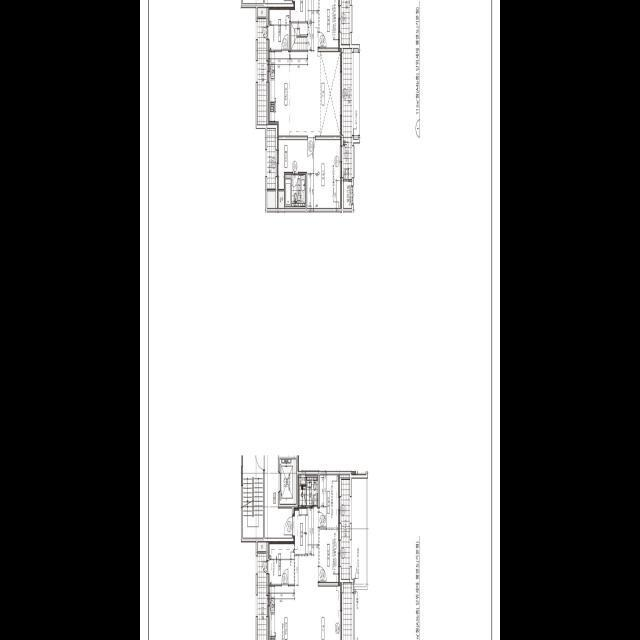background: (140, 0, 500, 640)
space_balconi: (343, 48, 352, 179), (341, 479, 350, 578), (258, 18, 266, 124), (258, 553, 266, 640), (267, 128, 276, 188), (343, 583, 352, 640), (341, 0, 350, 44)
space_bedroom: (307, 139, 342, 207), (320, 529, 340, 582), (320, 475, 340, 527), (320, 0, 340, 47)
space_dressroom: (277, 139, 307, 188)
space_elevator: (280, 459, 296, 503)
space_elevator_hall: (265, 455, 292, 537)
space_front: (293, 508, 308, 553), (291, 0, 308, 21)
space_kitchen: (268, 51, 308, 135), (268, 585, 307, 640)
space_living_room: (295, 508, 342, 640), (308, 0, 342, 135)
space_multipurpose_space: (268, 540, 294, 584), (268, 7, 289, 49)
space_other: (267, 191, 276, 207), (277, 190, 284, 207), (258, 541, 266, 551), (258, 7, 266, 16), (300, 474, 306, 483)
space_outdoor_room: (344, 181, 352, 207)
space_staircase: (243, 455, 264, 537), (291, 23, 308, 49)
space_toilet: (285, 174, 305, 206), (300, 475, 318, 505)
